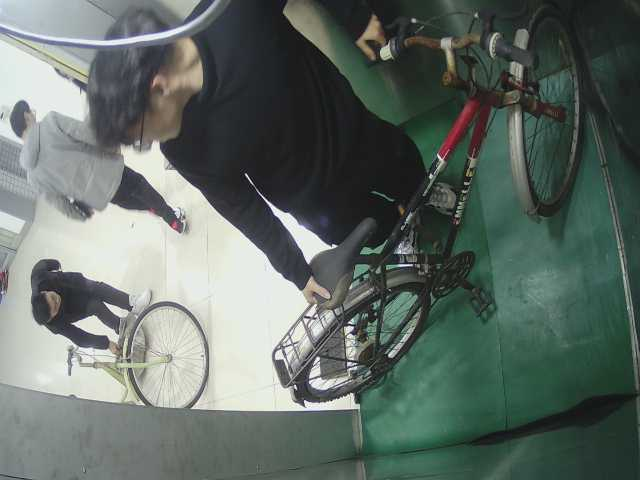bicycle: (279, 1, 598, 411), (62, 300, 215, 417)
person: (87, 4, 462, 268), (7, 97, 192, 243), (24, 259, 157, 356)
